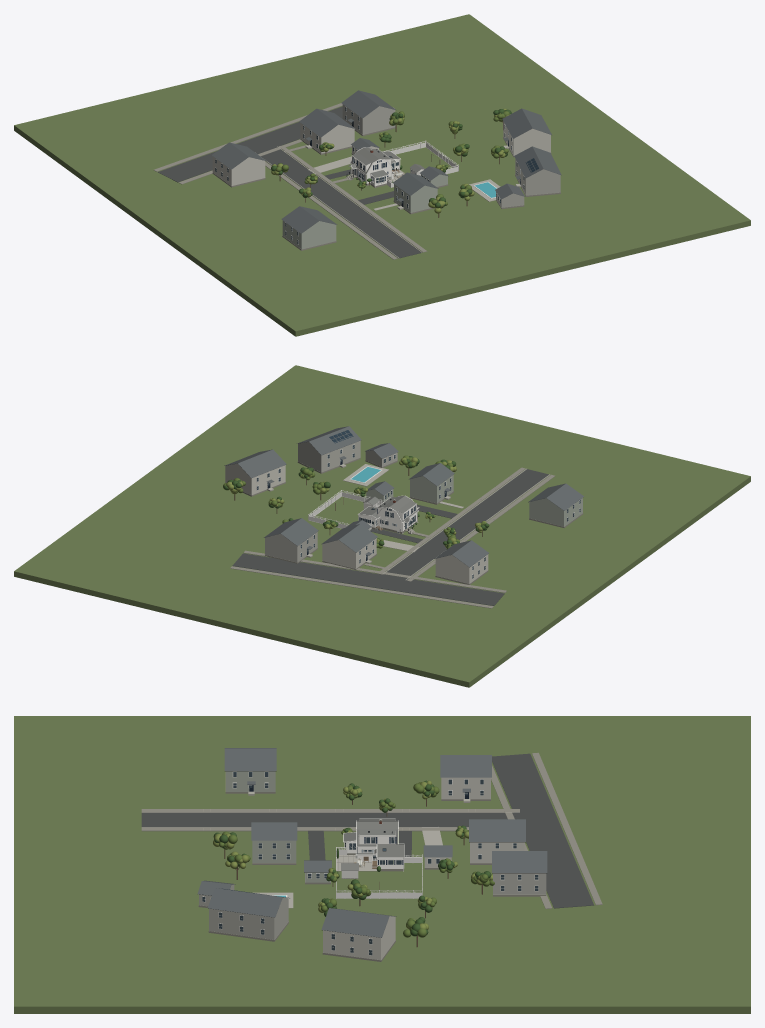
The picture shows the model from 3 angles, top to bottom: view 1: azimuth 30°, elevation 25°; view 2: azimuth 150°, elevation 25°; view 3: azimuth 270°, elevation 25°; orthographic projection. The views are drawn at different scales.
Parts seen in each view (by area): view 1: Exterior/Neighborhood ground.001, Exterior/140 context roof.002, Exterior/Fernwood road.001, Exterior/front foundation/rendered concrete.004, Exterior/140 context walls.001, Exterior/134 context walls.001, Exterior/16 context walls.001, Exterior/front dormer/eave/fascia.001, Exterior/Aerial tree 1/leaf cluster-0.001, Exterior/Aerial tree 1/leaf cluster-1.001, Exterior/Aerial tree 1/leaf cluster-2.001, Exterior/gambrel/segment-0-0.001 (+4 smaller); view 2: Exterior/Neighborhood ground.001, Exterior/Fernwood road.001, Exterior/140 context roof.002, Exterior/front foundation/rendered concrete.004, Exterior/140 context walls.001, Exterior/134 context walls.001, Exterior/16 context walls.001, Exterior/front dormer/eave/fascia.001, Exterior/Aerial tree 1/leaf cluster-1.001, Exterior/Aerial tree 1/leaf cluster-0.001, Exterior/front dormer/cheek--7.713049583435058/clapboard-23-, Exterior/gambrel/segment-0-0.001 (+4 smaller); view 3: Exterior/Neighborhood ground.001, Exterior/Fernwood road.001, Exterior/140 context roof.002, Exterior/front foundation/rendered concrete.004, Exterior/140 context walls.001, Exterior/134 context walls.001, Exterior/front dormer/eave/fascia.001, Exterior/16 context walls.001, Exterior/Aerial tree 1/leaf cluster-1.001, Exterior/Aerial tree 1/leaf cluster-0.001, Exterior/gambrel/segment-0-0.001, Exterior/driveway gable/upper window 0/glazing.001 (+4 smaller).
Boxes of the visible parts, x1,y1,x2,y2 form: Exterior/Neighborhood ground.001: [14, 14, 750, 336]; Exterior/140 context roof.002: [211, 90, 561, 233]; Exterior/Fernwood road.001: [158, 106, 421, 258]; Exterior/front foundation/rendered concrete.004: [154, 103, 560, 259]; Exterior/140 context walls.001: [212, 121, 550, 185]; Exterior/134 context walls.001: [342, 104, 560, 207]; Exterior/16 context walls.001: [282, 174, 447, 249]; Exterior/front dormer/eave/fascia.001: [215, 107, 524, 244]; Exterior/Aerial tree 1/leaf cluster-0.001: [271, 109, 511, 208]; Exterior/Aerial tree 1/leaf cluster-1.001: [271, 111, 510, 208]; Exterior/Aerial tree 1/leaf cluster-2.001: [271, 108, 509, 213]; Exterior/gambrel/segment-0-0.001: [350, 147, 424, 177]; Exterior/Neighborhood ground.001: [14, 365, 750, 687]; Exterior/Fernwood road.001: [232, 469, 548, 605]; Exterior/140 context roof.002: [224, 426, 583, 567]; Exterior/front foundation/rendered concrete.004: [230, 457, 583, 608]; Exterior/140 context walls.001: [225, 463, 488, 583]; Exterior/134 context walls.001: [265, 440, 397, 562]; Exterior/16 context walls.001: [366, 474, 582, 526]; Exterior/front dormer/eave/fascia.001: [256, 444, 580, 578]; Exterior/Aerial tree 1/leaf cluster-1.001: [223, 455, 486, 549]; Exterior/Aerial tree 1/leaf cluster-0.001: [223, 456, 489, 547]; Exterior/front dormer/cheek--7.713049583435058/clapboard-23-: [359, 501, 416, 531]; Exterior/gambrel/segment-0-0.001: [358, 496, 418, 522]; Exterior/Neighborhood ground.001: [14, 716, 750, 1013]; Exterior/Fernwood road.001: [141, 753, 594, 908]; Exterior/140 context roof.002: [197, 748, 547, 937]; Exterior/front foundation/rendered concrete.004: [141, 752, 602, 961]; Exterior/140 context walls.001: [323, 777, 524, 959]; Exterior/134 context walls.001: [199, 873, 546, 939]; Exterior/front dormer/eave/fascia.001: [202, 771, 538, 955]; Exterior/16 context walls.001: [226, 771, 330, 882]; Exterior/Aerial tree 1/leaf cluster-1.001: [219, 782, 494, 937]; Exterior/Aerial tree 1/leaf cluster-0.001: [213, 780, 491, 936]; Exterior/gambrel/segment-0-0.001: [341, 819, 404, 870]; Exterior/driveway gable/upper window 0/glazing.001: [202, 772, 538, 955].
Bounding box in the file's own units: 140 × 9.75 × 150.
